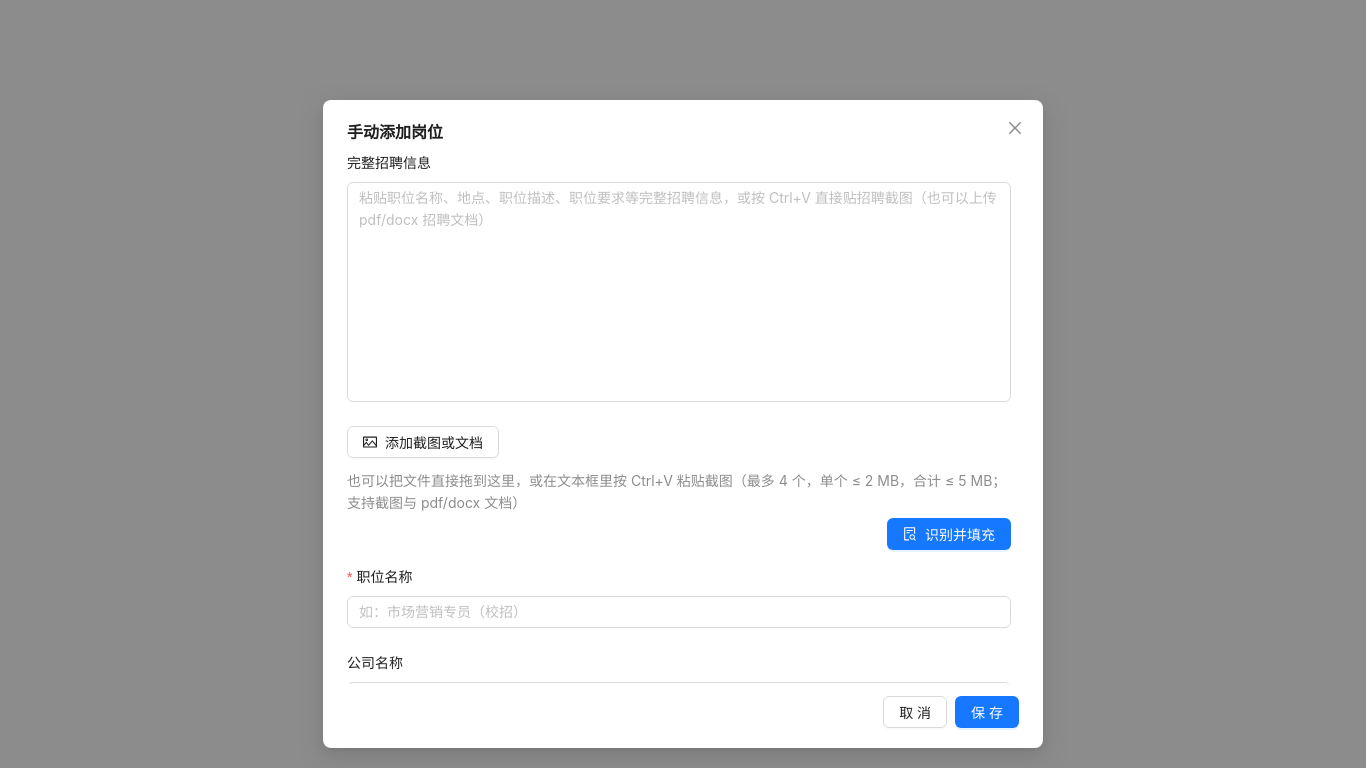
it: JobFormModal 图片识别 › marks local-rule results as less trustworthy
This screenshot has width=1366, height=768.
Replace the text in the text box labelled "完整招聘信息" with "门店店长" at (679, 292), box [347,182,1011,402]
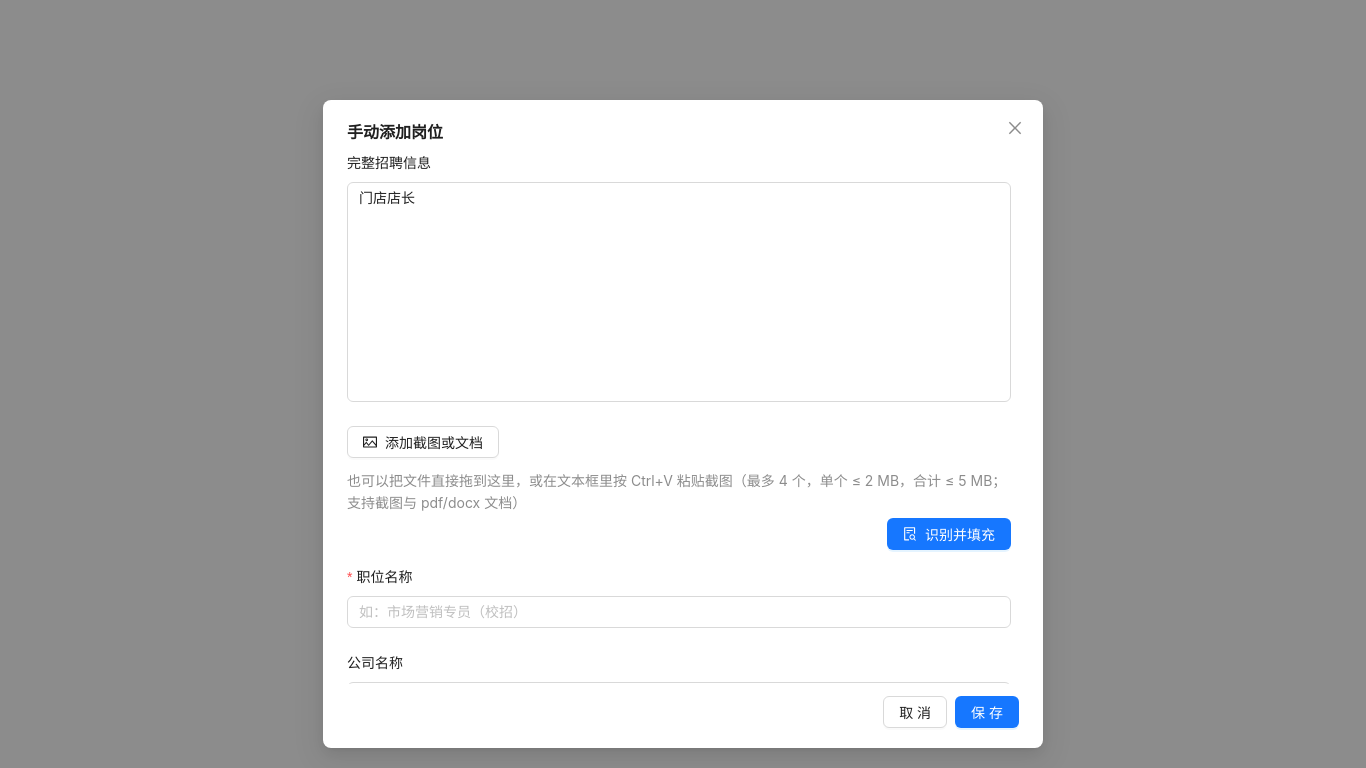
Click the button "识别并填充" at (949, 534), box [887,518,1011,550]
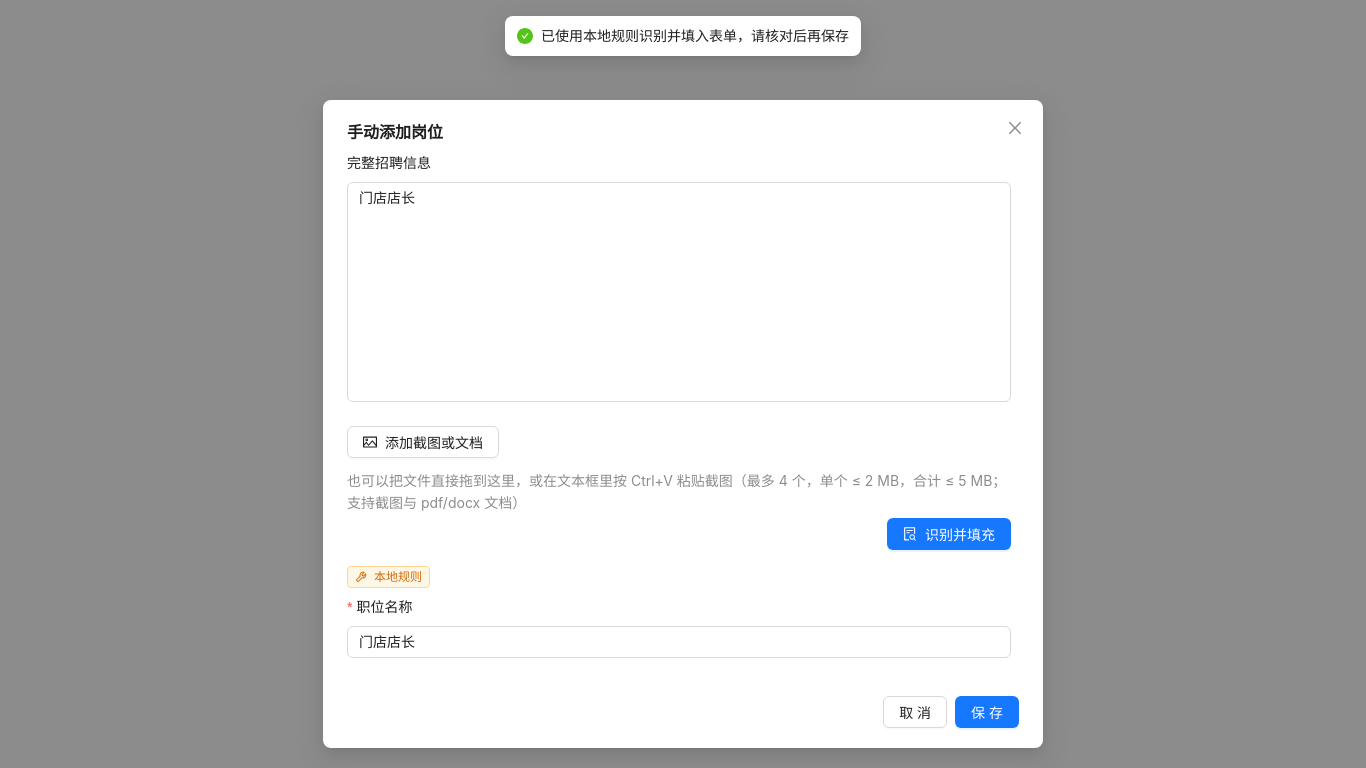
Hover over the text "本地规则" at (398, 576), box [374,569,422,584]
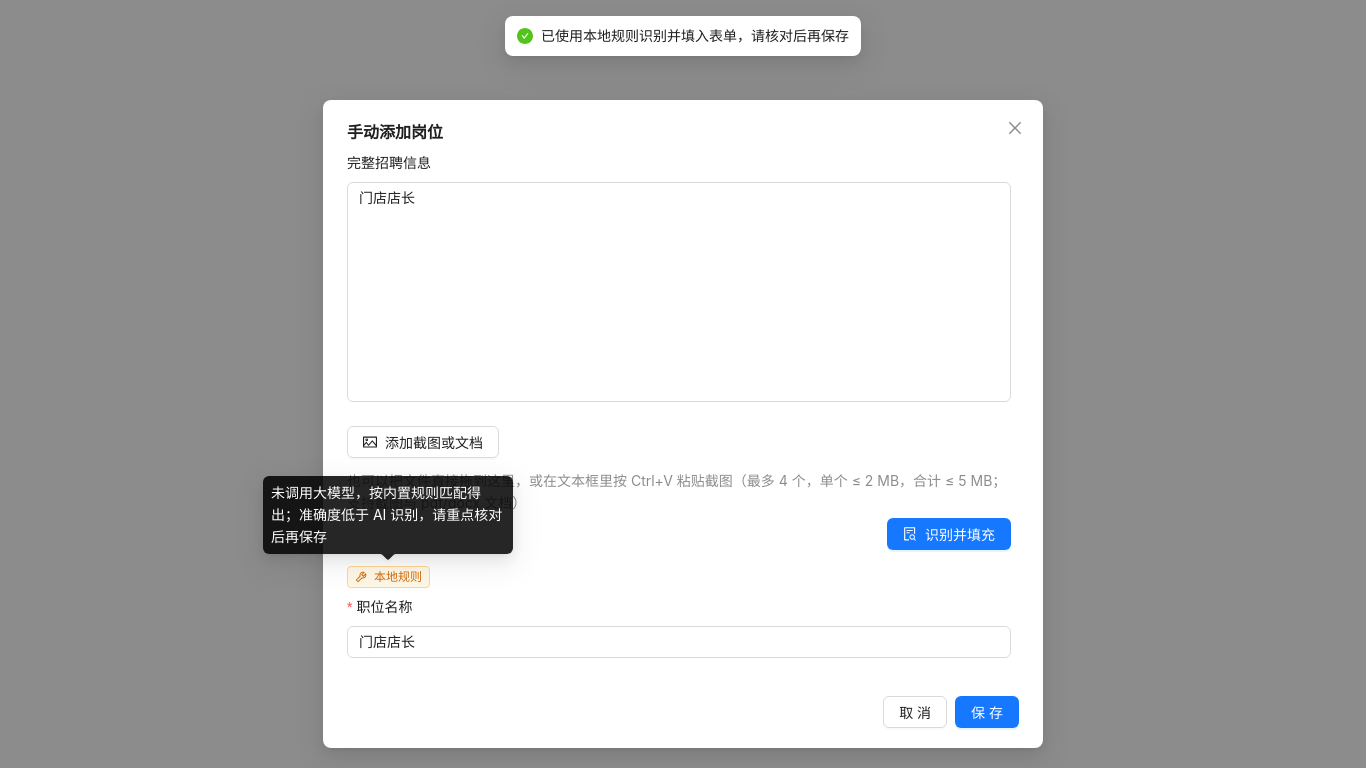
expect the tooltip shows "准确度低于 AI 识别": met, box [271,484,502,545]
